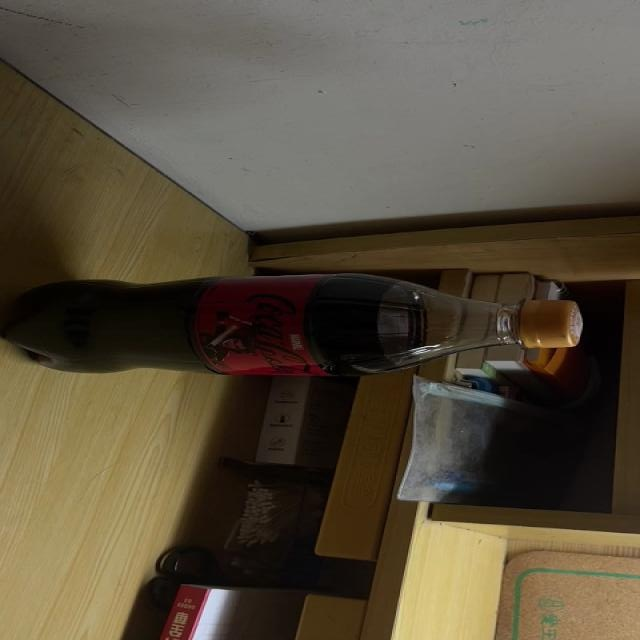Coca-Cola: (0, 272, 582, 377)
